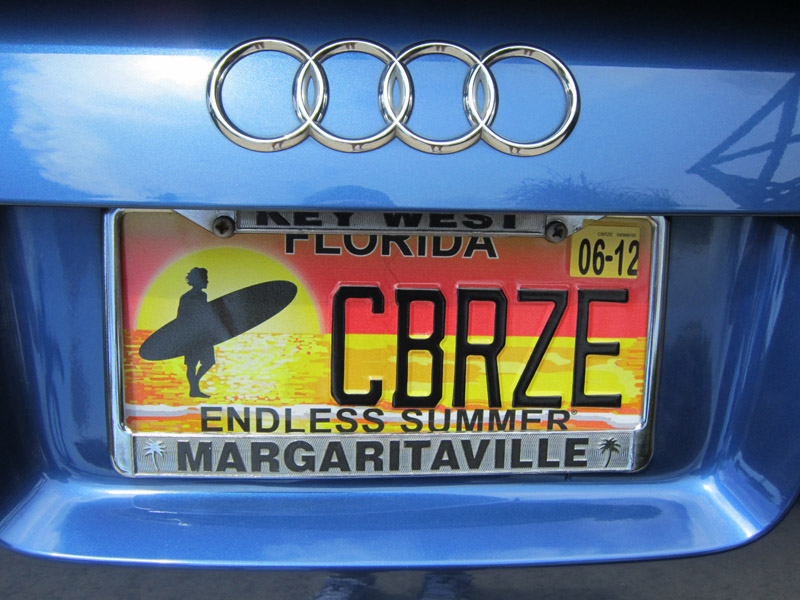license plate: (95, 206, 668, 480)
